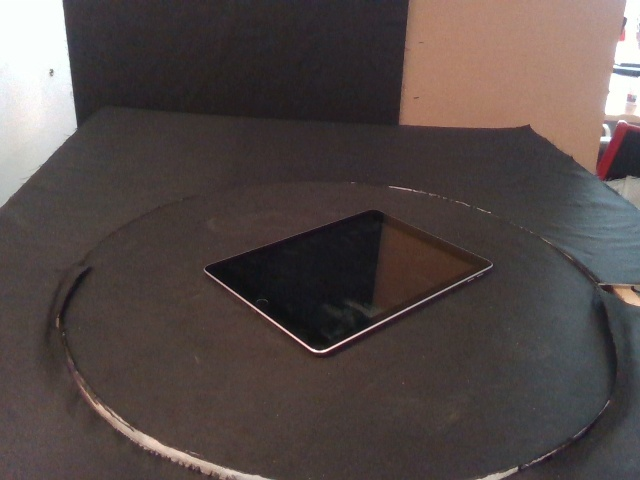laptop: (204, 208, 495, 357)
